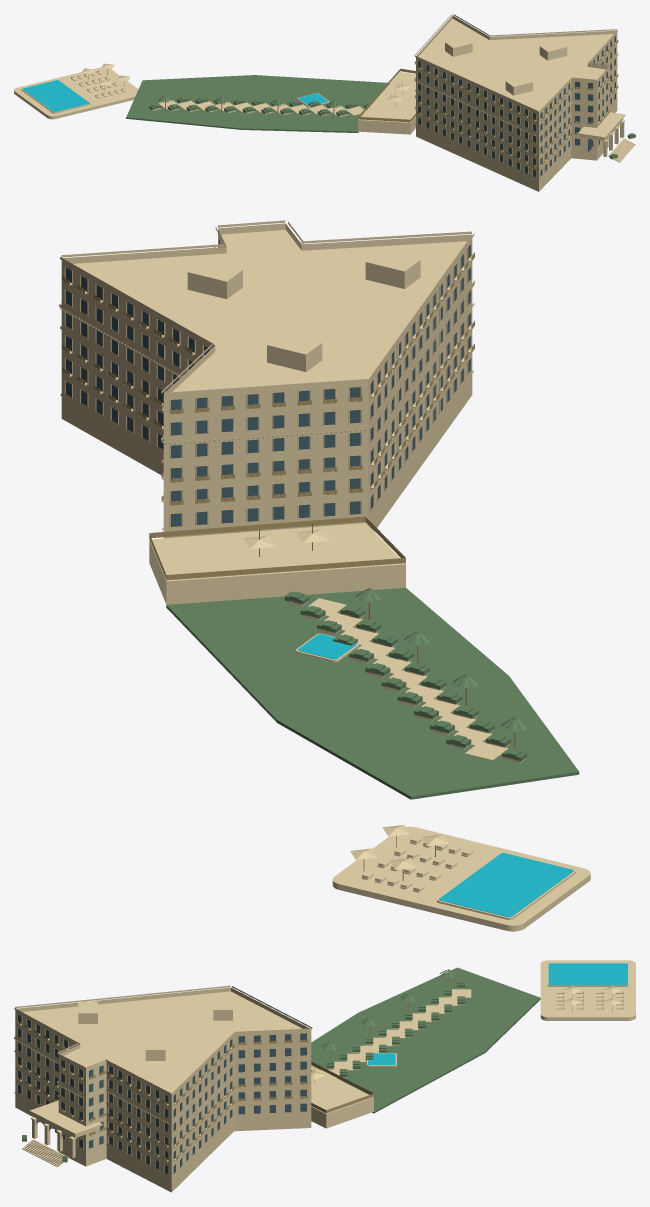
File: phoenicia.glb
3 views of the same model, one above another, from view 1: azimuth 30°, elevation 25°; view 2: azimuth 150°, elevation 25°; view 3: azimuth 270°, elevation 25° (orthographic). The views are drawn at different scales.
Parts seen in each view (by area): view 1: Abgewinkelter Hotelbau mit Balkonen, Terrassierter Hotelgarten, Dachaufbauten und Attika, Tiefer Poolbereich mit Liegen und Schirmen, Gartenterrasse mit Balustrade, Dreibogiger Eingang und Freitreppe; view 2: Abgewinkelter Hotelbau mit Balkonen, Terrassierter Hotelgarten, Dachaufbauten und Attika, Gartenterrasse mit Balustrade, Tiefer Poolbereich mit Liegen und Schirmen; view 3: Abgewinkelter Hotelbau mit Balkonen, Terrassierter Hotelgarten, Dachaufbauten und Attika, Tiefer Poolbereich mit Liegen und Schirmen, Gartenterrasse mit Balustrade, Dreibogiger Eingang und Freitreppe.
Boxes of the visible parts, box(x1,y1,x2,y2) form: Abgewinkelter Hotelbau mit Balkonen: box(414, 14, 618, 191); Terrassierter Hotelgarten: box(126, 75, 389, 132); Dachaufbauten und Attika: box(416, 15, 617, 115); Tiefer Poolbereich mit Liegen und Schirmen: box(14, 63, 138, 119); Gartenterrasse mit Balustrade: box(358, 68, 415, 134); Dreibogiger Eingang und Freitreppe: box(578, 112, 635, 162); Abgewinkelter Hotelbau mit Balkonen: box(59, 220, 474, 538); Terrassierter Hotelgarten: box(166, 587, 579, 799); Dachaufbauten und Attika: box(61, 223, 472, 402); Gartenterrasse mit Balustrade: box(149, 516, 405, 604); Tiefer Poolbereich mit Liegen und Schirmen: box(332, 825, 590, 931); Abgewinkelter Hotelbau mit Balkonen: box(14, 985, 312, 1192); Terrassierter Hotelgarten: box(311, 967, 540, 1113); Dachaufbauten und Attika: box(15, 987, 311, 1098); Tiefer Poolbereich mit Liegen und Schirmen: box(540, 960, 635, 1020); Gartenterrasse mit Balustrade: box(311, 1061, 373, 1128); Dreibogiger Eingang und Freitreppe: box(22, 1101, 102, 1166).
Size of the model in its own units: 149 by 35.5 by 157.
